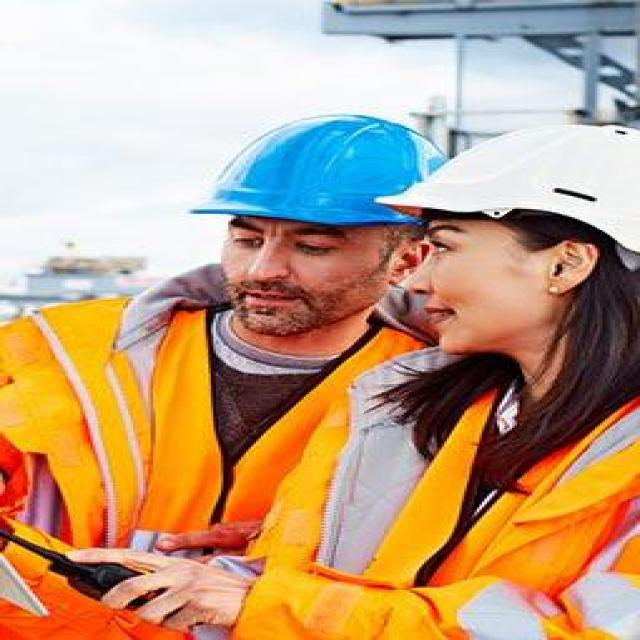Reflective-Jacket: (0, 296, 417, 634), (327, 360, 632, 638)
Safety-Helmet: (376, 118, 640, 254), (181, 104, 449, 232)
